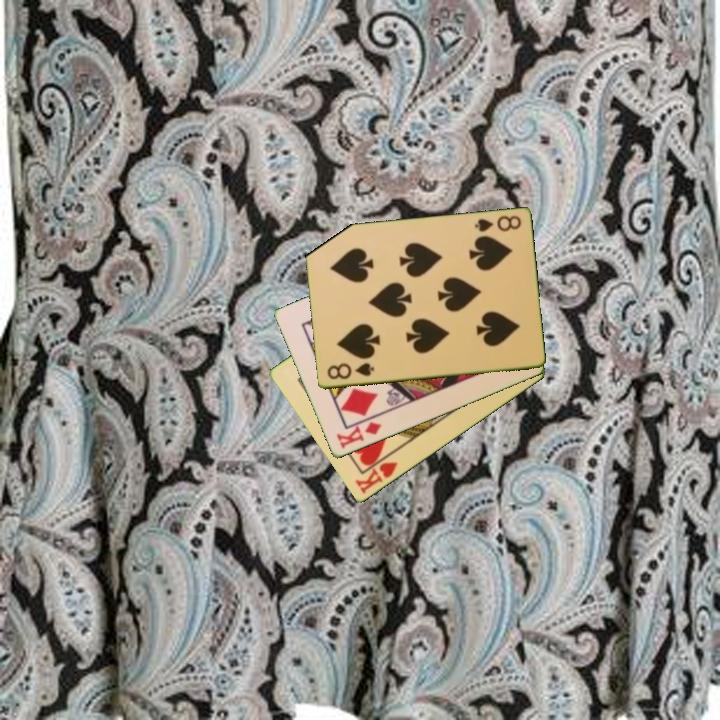8s: (324, 360, 377, 383), (471, 212, 524, 235)
Kd: (333, 418, 384, 452)
Kh: (352, 449, 401, 497)
